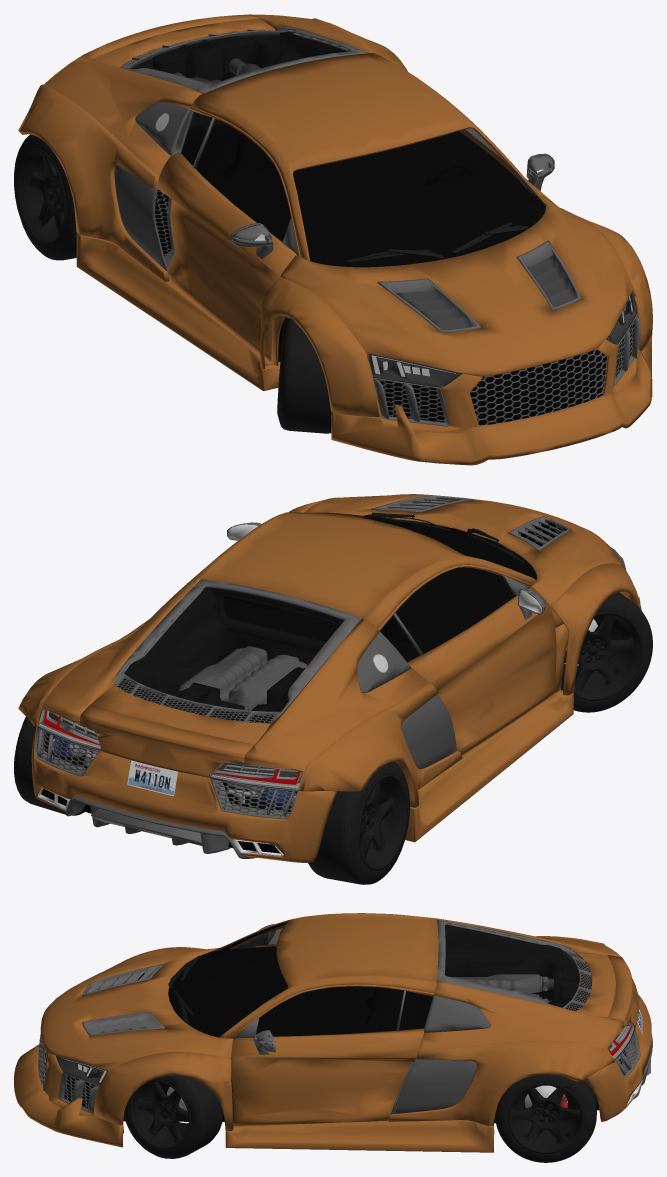
The model's file is car11.glb.
3 renders of one model, top to bottom at view 1: azimuth 30°, elevation 25°; view 2: azimuth 150°, elevation 25°; view 3: azimuth 270°, elevation 25°, orthographic. The views are drawn at different scales.
Visible parts, largest first — view 1: custom hood, Plane.010, Doors.014, Doors.009, Doors, Front Bumper.005, Doors.016, Hood.003, Doors.001, Doors.018, Plane.007, Plane (+26 smaller); view 2: Doors.009, Plane, Doors.001, Doors, Doors.011, Plane.010, Doors.015, custom hood, Doors.016, Doors.018, Plane.007, Doors.005 (+30 smaller); view 3: Doors, Plane.010, Doors.009, custom hood, Doors.016, Doors.001, Doors.014, Doors.018, Plane.007, Plane, Hood.003, Doors.015 (+24 smaller).
Part boxes in pixels (bbox=[...]): custom hood: bbox=[280, 195, 635, 376]; Plane.010: bbox=[181, 131, 545, 267]; Doors.014: bbox=[293, 127, 545, 266]; Doors.009: bbox=[191, 53, 545, 260]; Doors: bbox=[157, 129, 554, 361]; Front Bumper.005: bbox=[331, 336, 652, 465]; Doors.016: bbox=[18, 18, 407, 281]; Hood.003: bbox=[260, 208, 652, 417]; Doors.001: bbox=[44, 14, 372, 187]; Doors.018: bbox=[76, 233, 280, 390]; Plane.007: bbox=[181, 111, 513, 241]; Plane: bbox=[128, 31, 346, 84]; Doors.009: bbox=[188, 512, 536, 628]; Plane: bbox=[124, 587, 343, 711]; Doors.001: bbox=[36, 578, 428, 790]; Doors: bbox=[407, 587, 556, 755]; Doors.011: bbox=[31, 727, 337, 862]; Plane.010: bbox=[224, 518, 536, 661]; Doors.015: bbox=[124, 587, 343, 711]; custom hood: bbox=[304, 494, 622, 627]; Doors.016: bbox=[18, 619, 462, 807]; Doors.018: bbox=[405, 689, 573, 842]; Plane.007: bbox=[380, 567, 516, 661]; Doors.005: bbox=[79, 704, 254, 777]; Doors: bbox=[231, 944, 424, 1125]; Plane.010: bbox=[168, 946, 432, 1038]; Doors.009: bbox=[218, 913, 438, 1038]; custom hood: bbox=[40, 947, 232, 1072]; Doors.016: bbox=[388, 936, 614, 1126]; Doors.001: bbox=[388, 918, 624, 1119]; Doors.014: bbox=[173, 921, 287, 1037]; Doors.018: bbox=[225, 1120, 493, 1152]; Plane.007: bbox=[256, 925, 432, 1036]; Plane: bbox=[445, 924, 579, 1007]; Hood.003: bbox=[93, 947, 233, 1130]; Doors.015: bbox=[437, 925, 573, 1007].
Bounding box in the file's own units: 32.61 × 17.5 × 62.54.
14 materials, 4 textured.
